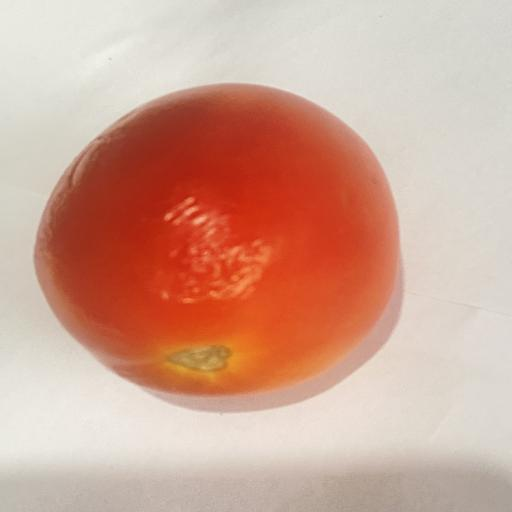spoiled: (35, 84, 399, 396)
